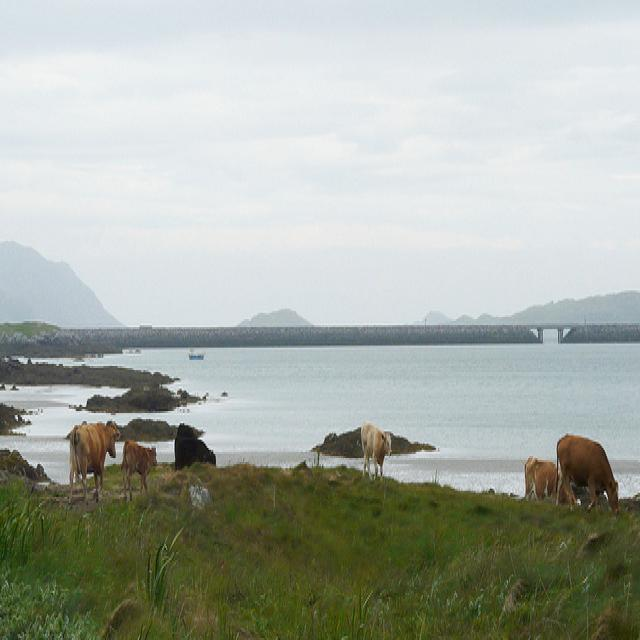cow: (553, 432, 617, 511), (64, 417, 119, 505), (524, 454, 581, 505), (119, 435, 156, 501), (359, 417, 391, 479), (173, 434, 216, 469), (175, 419, 197, 436)
